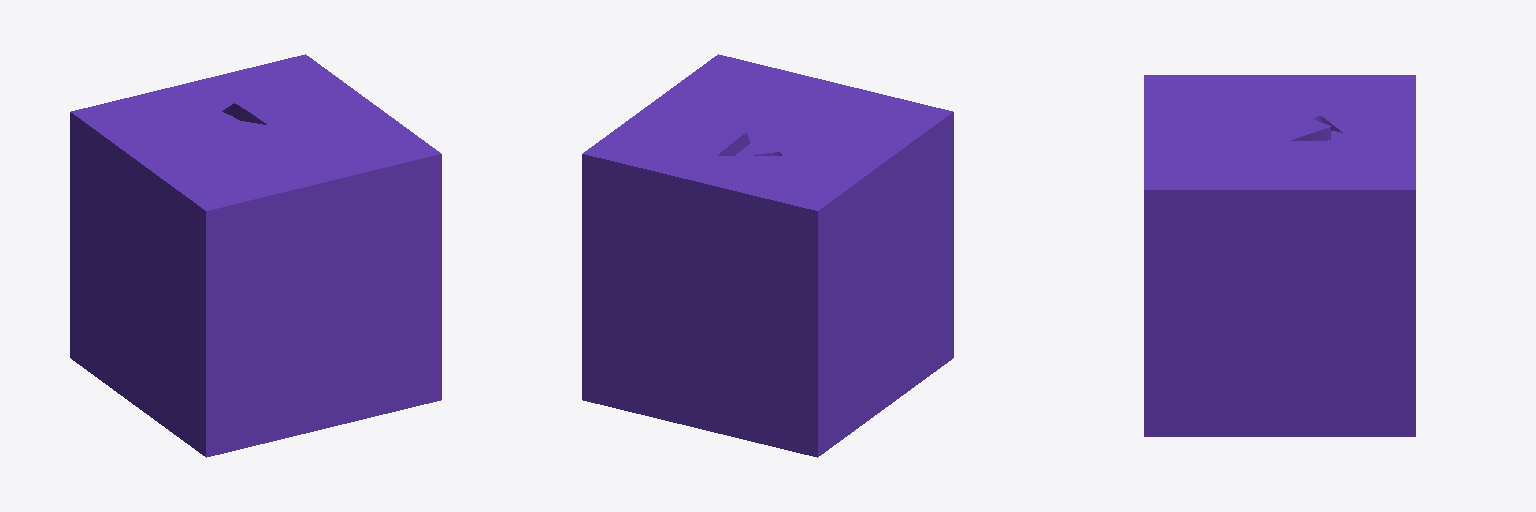
File: DiceD6.obj
3 views of the same model, side by side, from view 1: azimuth 30°, elevation 25°; view 2: azimuth 150°, elevation 25°; view 3: azimuth 270°, elevation 25° (orthographic).
Visible parts, largest first — view 1: Cube.001_Cube.003; view 2: Cube.001_Cube.003; view 3: Cube.001_Cube.003.
Boxes of the visible parts, x1=… form: Cube.001_Cube.003: x1=70, y1=54, x2=441, y2=457; Cube.001_Cube.003: x1=582, y1=54, x2=953, y2=457; Cube.001_Cube.003: x1=1144, y1=75, x2=1415, y2=436.
Size of the model in its own units: 16 by 16 by 16.